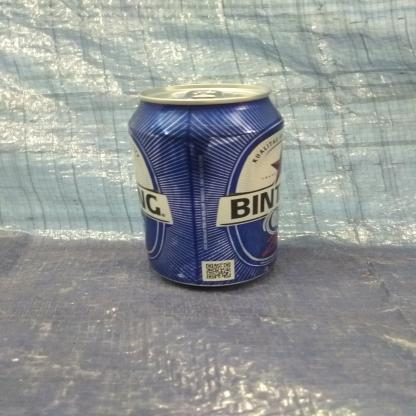bottle: (120, 76, 292, 294)
